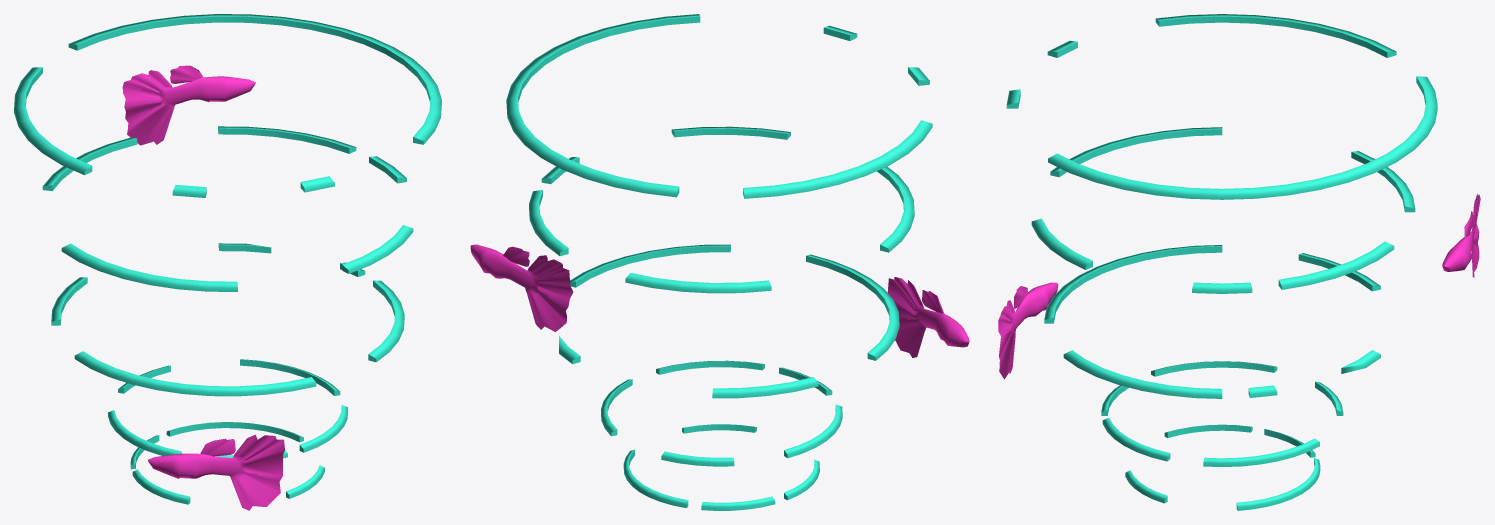
File: Scifi_07.fbx
The picture shows the model from 3 angles, left to right: view 1: azimuth 30°, elevation 25°; view 2: azimuth 150°, elevation 25°; view 3: azimuth 270°, elevation 25°; orthographic projection.
Parts seen in each view (by area): view 1: MeshBaker__6__mesh_mesh; view 2: MeshBaker__6__mesh_mesh; view 3: MeshBaker__6__mesh_mesh.
Boxes of the visible parts, <box> form: MeshBaker__6__mesh_mesh: <box>14,14,441,510</box>; MeshBaker__6__mesh_mesh: <box>470,14,969,510</box>; MeshBaker__6__mesh_mesh: <box>998,14,1480,510</box>.
Size of the model in its own units: 734 by 690 by 821.
